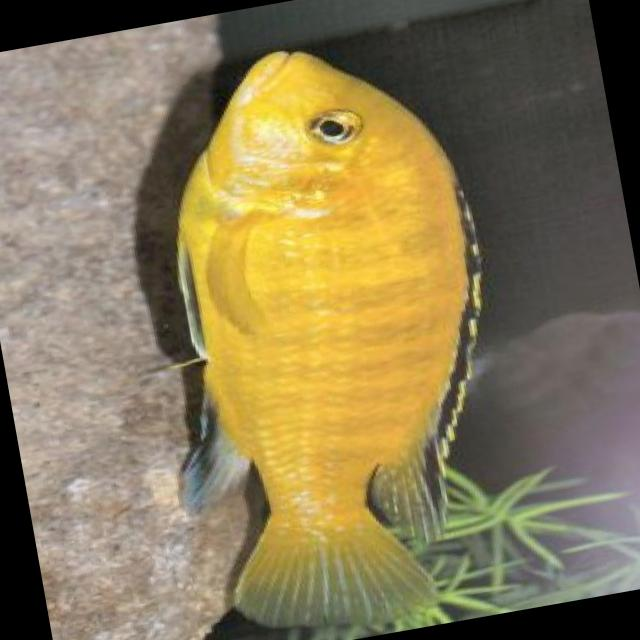YellowCichlid: (128, 22, 540, 640)
